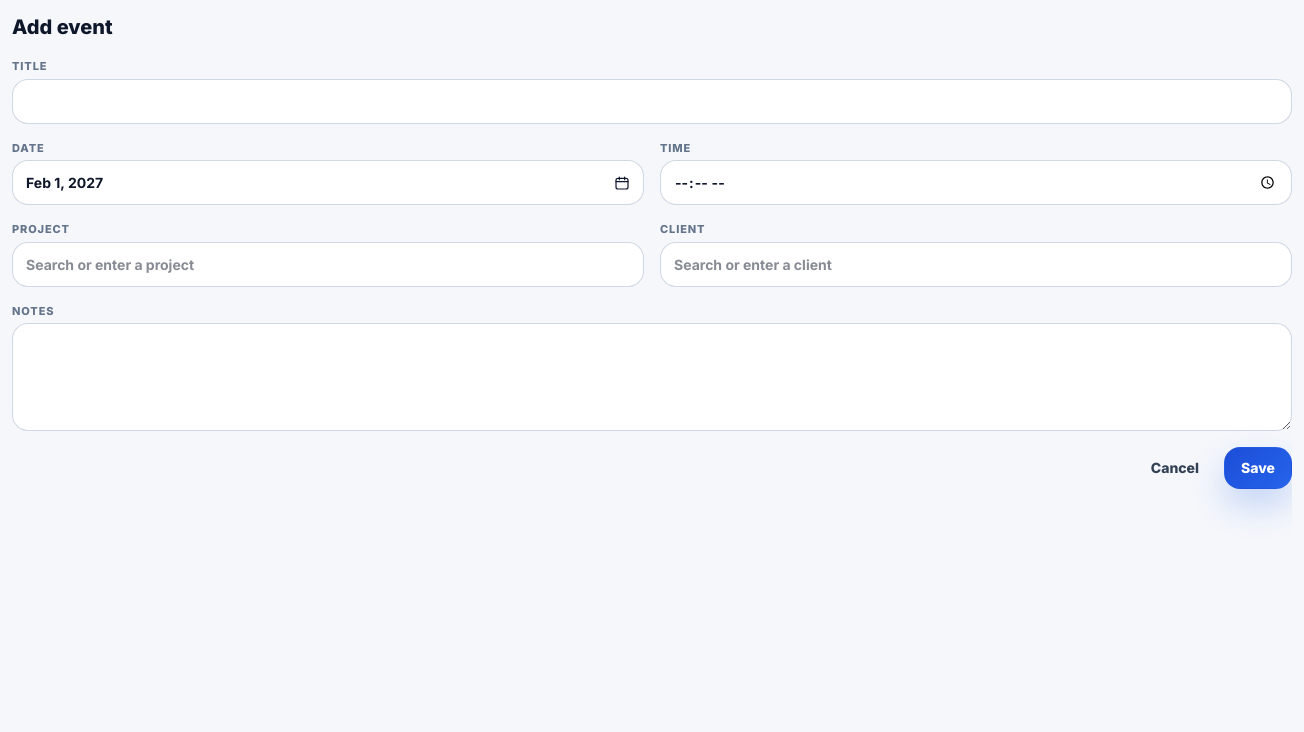
Test case: CalendarEventForm — validation › shows a required-title error and does not submit when Title is blank
The width and height of the screenshot is (1304, 732).
Click the button "Save" at (1258, 468), box [1224,447,1292,489]
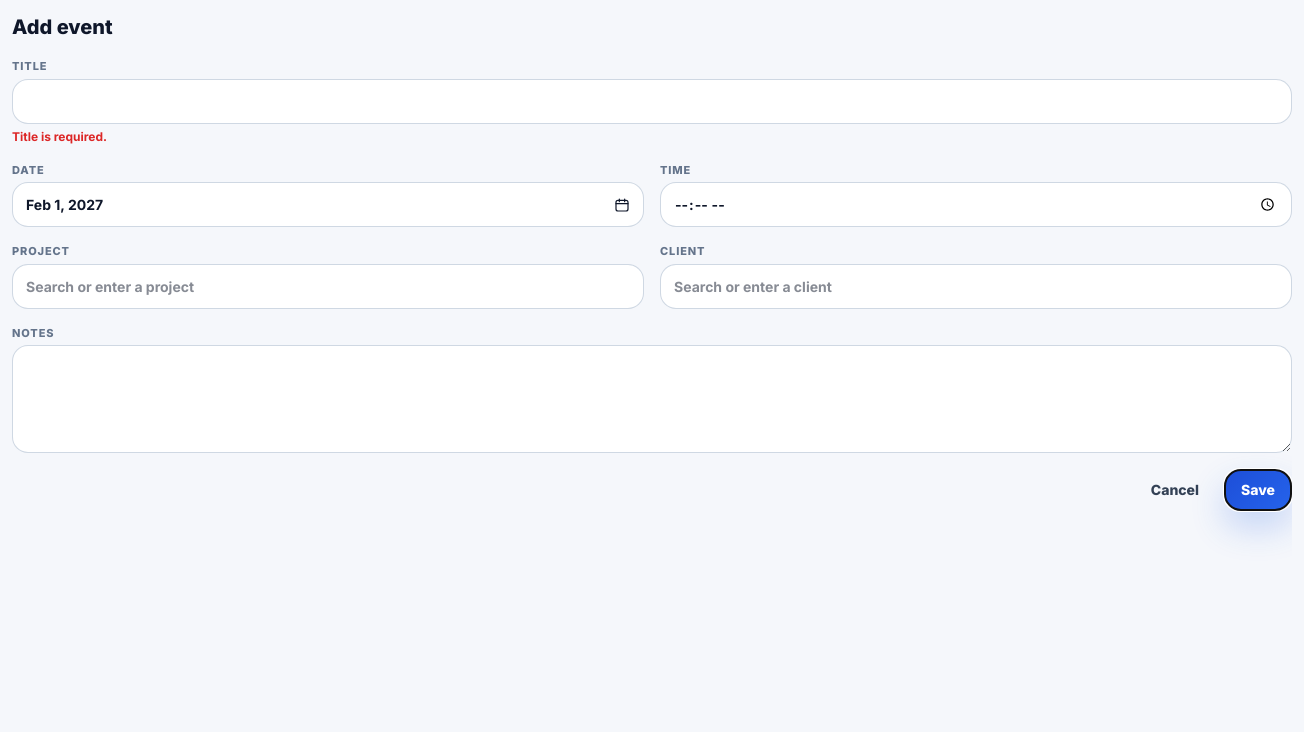
expect the text "Title is required." is shown: met, box [12,128,107,144]
